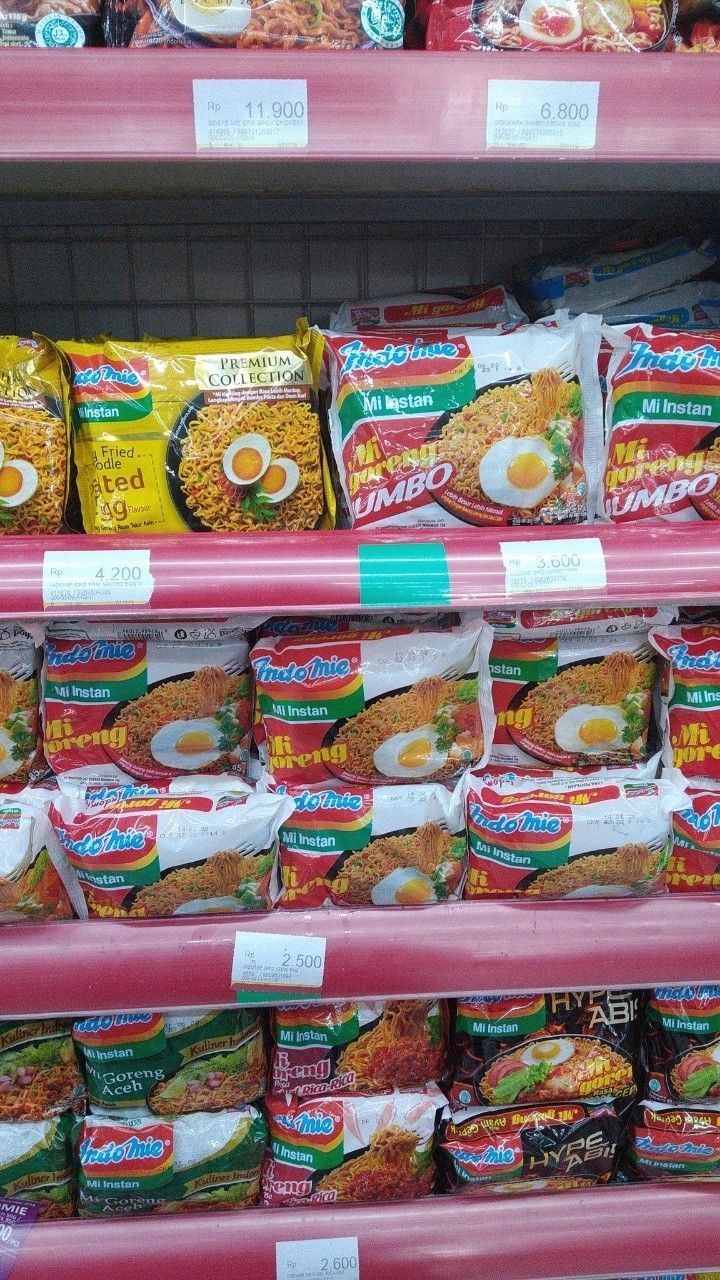Indomie: (310, 293, 611, 536)
